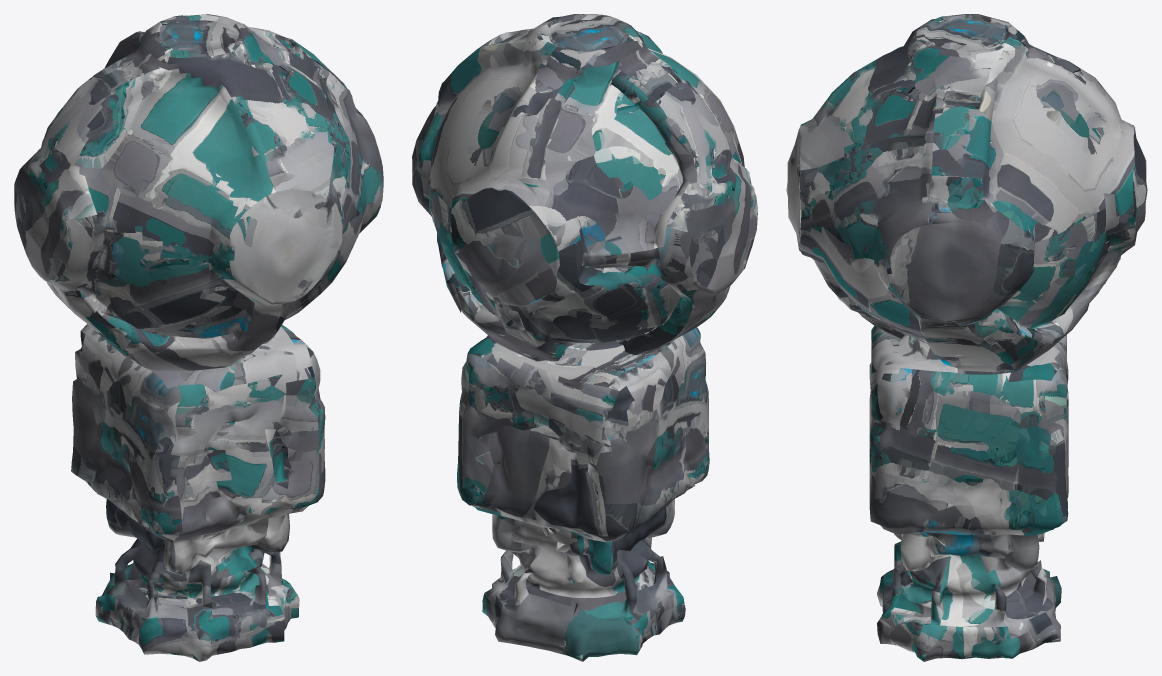
The model's file is SM_Shield_tex1.fbx.
The picture shows the model from 3 angles, left to right: view 1: azimuth 30°, elevation 25°; view 2: azimuth 150°, elevation 25°; view 3: azimuth 270°, elevation 25°; orthographic projection.
Visible parts, largest first — view 1: Emitter, SMT_Shield; view 2: Emitter, SMT_Shield; view 3: Emitter, SMT_Shield.
Boxes of the visible parts, left/top/right/bottom form: Emitter: left=14, top=14, right=383, bottom=370; SMT_Shield: left=71, top=301, right=325, bottom=661; Emitter: left=412, top=14, right=757, bottom=361; SMT_Shield: left=457, top=323, right=709, bottom=661; Emitter: left=786, top=14, right=1147, bottom=372; SMT_Shield: left=869, top=312, right=1068, bottom=661.
Bounding box in the file's own units: 0.5211 × 0.9411 × 0.5188.
